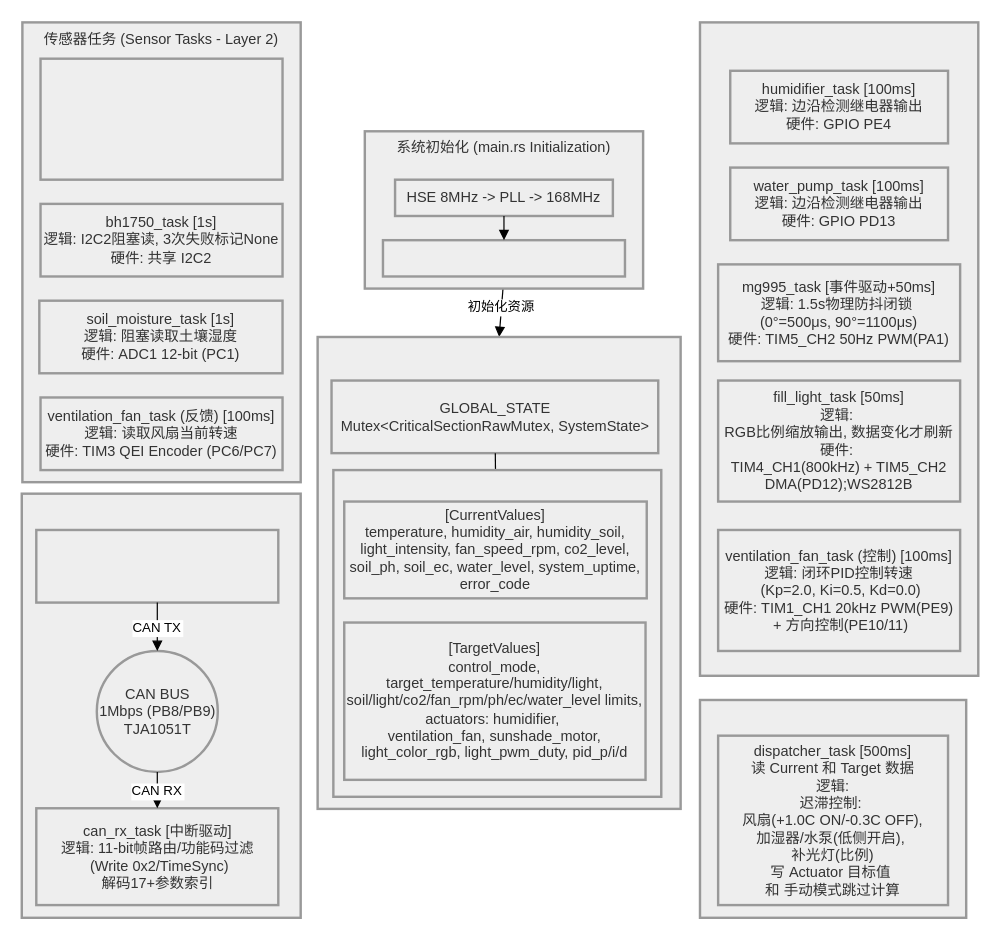
The diagram is 1001 pixels wide and 939 high, and some of its shapes have lost their labels. The shapes that lost their labels are listed below. From the top down, each one's box as (x1, y1, x2, y2) in pixels, then its label:
(39, 57, 283, 180): sht30_task [1s] 逻辑: I2C2阻塞读, 3次失败标记None 硬件: I2C2 100kHz (PB10/PB11) + 互斥锁
(381, 238, 626, 277): Spawner::spawn -> 11 async tasks
(698, 21, 979, 676): 执行器任务 (Actuator Tasks - Layer 4)
(34, 528, 279, 603): can_tx_task [1s] f32;u32缩放打包, 优先级调度 (Error优先, 模拟量次之, 数字量最后)
(316, 335, 681, 809): 核心数据总线 (Layer 1)
(332, 468, 662, 797): 状态结构体
(20, 492, 301, 918): 通信层 (Communication Layer - Layer 5)
(698, 698, 967, 918): 控制逻辑任务 (Control Task - Layer 3)
